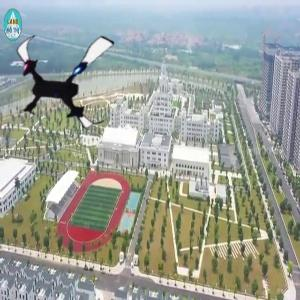drone: (7, 19, 127, 139)
